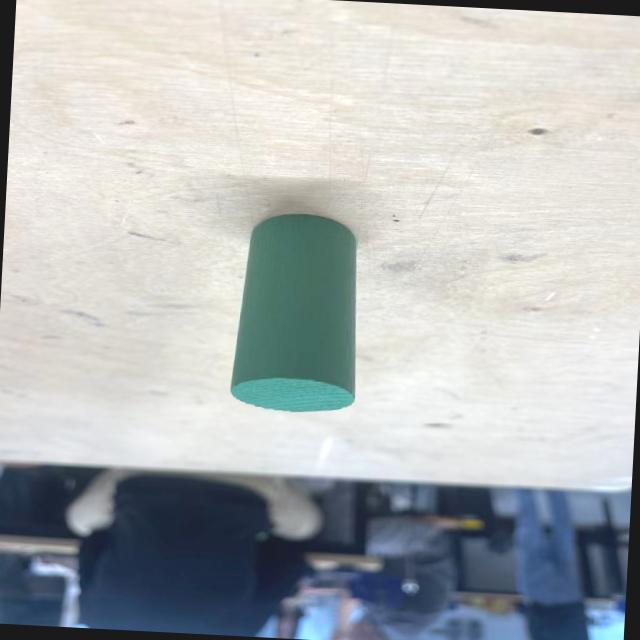green_cylinder: (228, 210, 366, 416)
